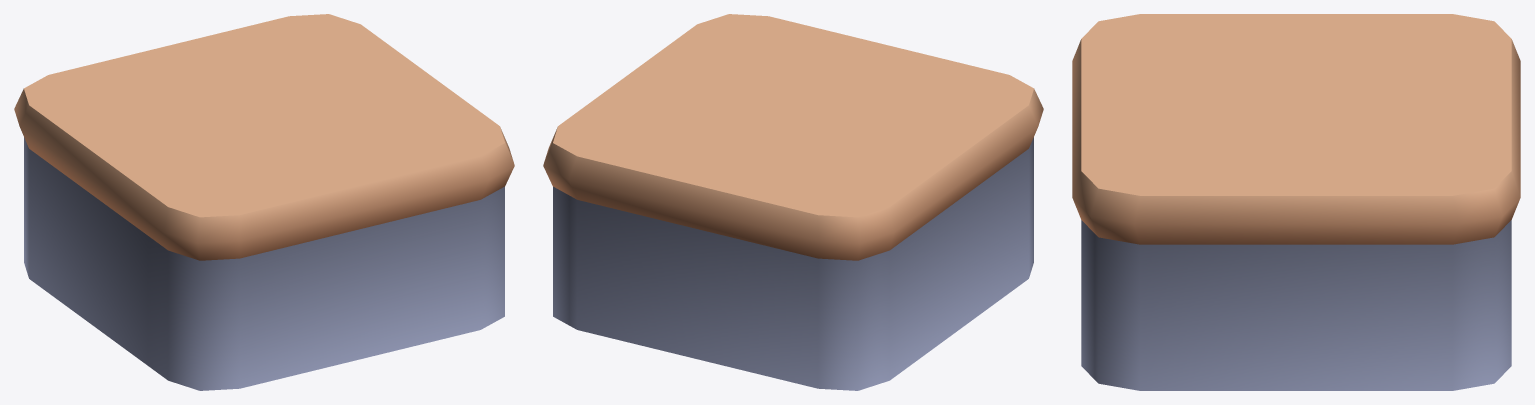
Rendered from block-grass-large.glb.
3 renders of one model, left to right at view 1: azimuth 30°, elevation 25°; view 2: azimuth 150°, elevation 25°; view 3: azimuth 270°, elevation 25°, orthographic. The views are drawn at different scales.
Visible parts, largest first — view 1: block-grass-large; view 2: block-grass-large; view 3: block-grass-large.
Part boxes in pixels (x1=…): block-grass-large: x1=14, y1=14, x2=514, y2=390; block-grass-large: x1=543, y1=14, x2=1043, y2=390; block-grass-large: x1=1072, y1=14, x2=1520, y2=390.
Bounding box in the file's own units: 2.08 × 1 × 2.08.
